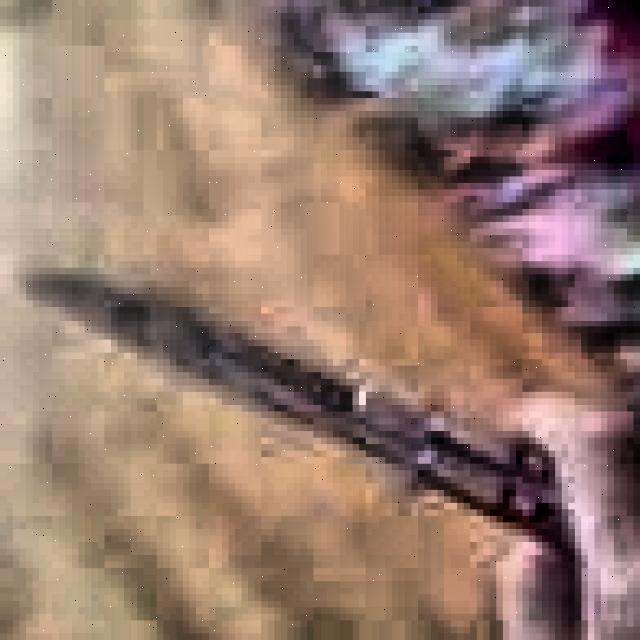knife: (32, 268, 578, 556)
